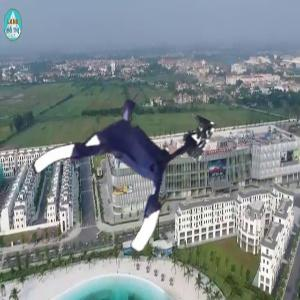drone: (41, 86, 194, 239)
